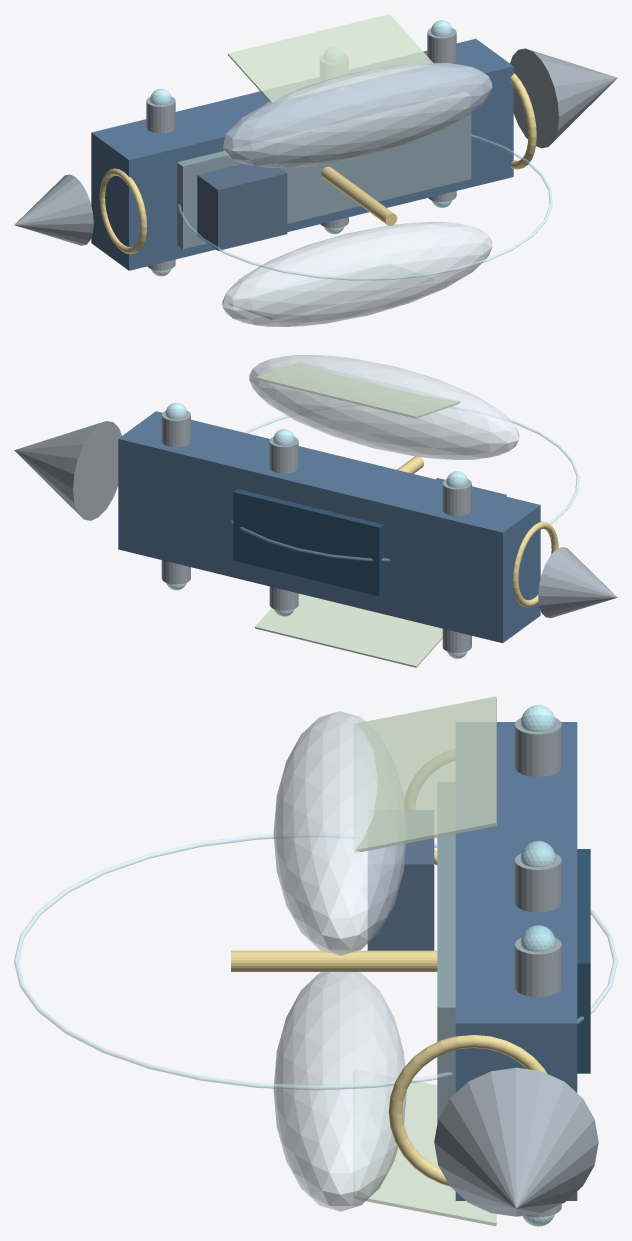
File: SKYSHIP_10_AERIE_CRUISER_aerie_cruiser.glb
3 renders of one model, top to bottom at view 1: azimuth 30°, elevation 25°; view 2: azimuth 150°, elevation 25°; view 3: azimuth 270°, elevation 25°, orthographic. The views are drawn at different scales.
Parts seen in each view (by area): view 1: aetherwood_hull, upper_deck, left_aether_cell, right_aether_cell, right_lift_sail, command_cabin, forward_ram, left_lift_sail, stern_finial, aether_shield_ring, stern_docking_ring, central_mast (+4 smaller); view 2: aetherwood_hull, right_aether_cell, lower_hangar_bay, left_lift_sail, forward_ram, right_lift_sail, stern_finial, aether_shield_ring, right_thruster_0.73, right_thruster_-2.55, right_thruster_2.77, stern_docking_ring (+3 smaller); view 3: aetherwood_hull, left_aether_cell, right_aether_cell, forward_ram, right_lift_sail, left_lift_sail, command_cabin, upper_deck, aether_shield_ring, central_mast, forward_docking_ring, lower_hangar_bay (+7 smaller).
Boxes of the visible parts, x1,y1,x2,y2 form: aetherwood_hull: [91, 38, 513, 270]; upper_deck: [177, 92, 471, 249]; left_aether_cell: [222, 222, 492, 326]; right_aether_cell: [222, 63, 492, 167]; right_lift_sail: [228, 14, 433, 104]; command_cabin: [197, 158, 287, 250]; forward_ram: [510, 48, 617, 148]; left_lift_sail: [228, 263, 433, 319]; stern_finial: [14, 174, 93, 245]; aether_shield_ring: [178, 134, 552, 280]; stern_docking_ring: [99, 168, 147, 254]; central_mast: [321, 166, 397, 225]; aetherwood_hull: [118, 411, 540, 643]; right_aether_cell: [249, 355, 519, 459]; lower_hangar_bay: [233, 489, 383, 596]; left_lift_sail: [254, 593, 442, 667]; forward_ram: [14, 421, 121, 520]; right_lift_sail: [254, 362, 460, 418]; stern_finial: [538, 547, 617, 618]; aether_shield_ring: [230, 415, 579, 561]; right_thruster_0.73: [269, 435, 298, 473]; right_thruster_-2.55: [442, 477, 471, 515]; right_thruster_2.77: [161, 409, 190, 447]; stern_docking_ring: [513, 521, 558, 607]; aetherwood_hull: [455, 722, 577, 1200]; left_aether_cell: [273, 972, 406, 1211]; right_aether_cell: [273, 711, 405, 955]; forward_ram: [434, 1067, 598, 1216]; right_lift_sail: [354, 696, 496, 852]; left_lift_sail: [354, 1070, 496, 1226]; command_cabin: [367, 810, 434, 950]; upper_deck: [437, 782, 455, 1122]; aether_shield_ring: [14, 834, 617, 1090]; central_mast: [231, 950, 437, 971]; forward_docking_ring: [388, 1035, 547, 1186]; lower_hangar_bay: [577, 849, 590, 1073].
Bounding box in the file's own units: 11.43 × 4.54 × 6.17.
